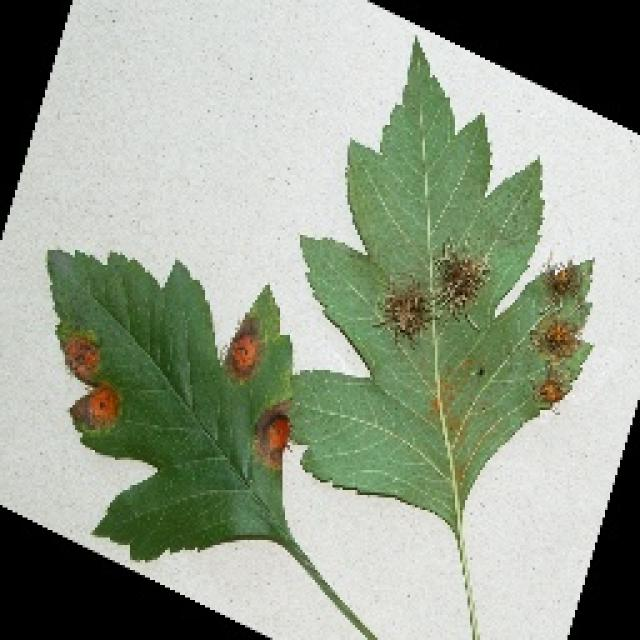Gymnosporangium_Rusts: (42, 32, 600, 638)
